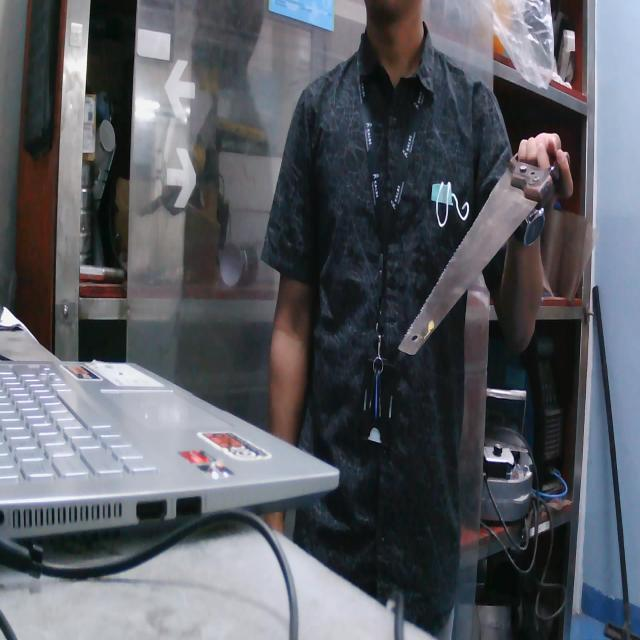gergaji_kayu: (375, 95, 580, 385)
